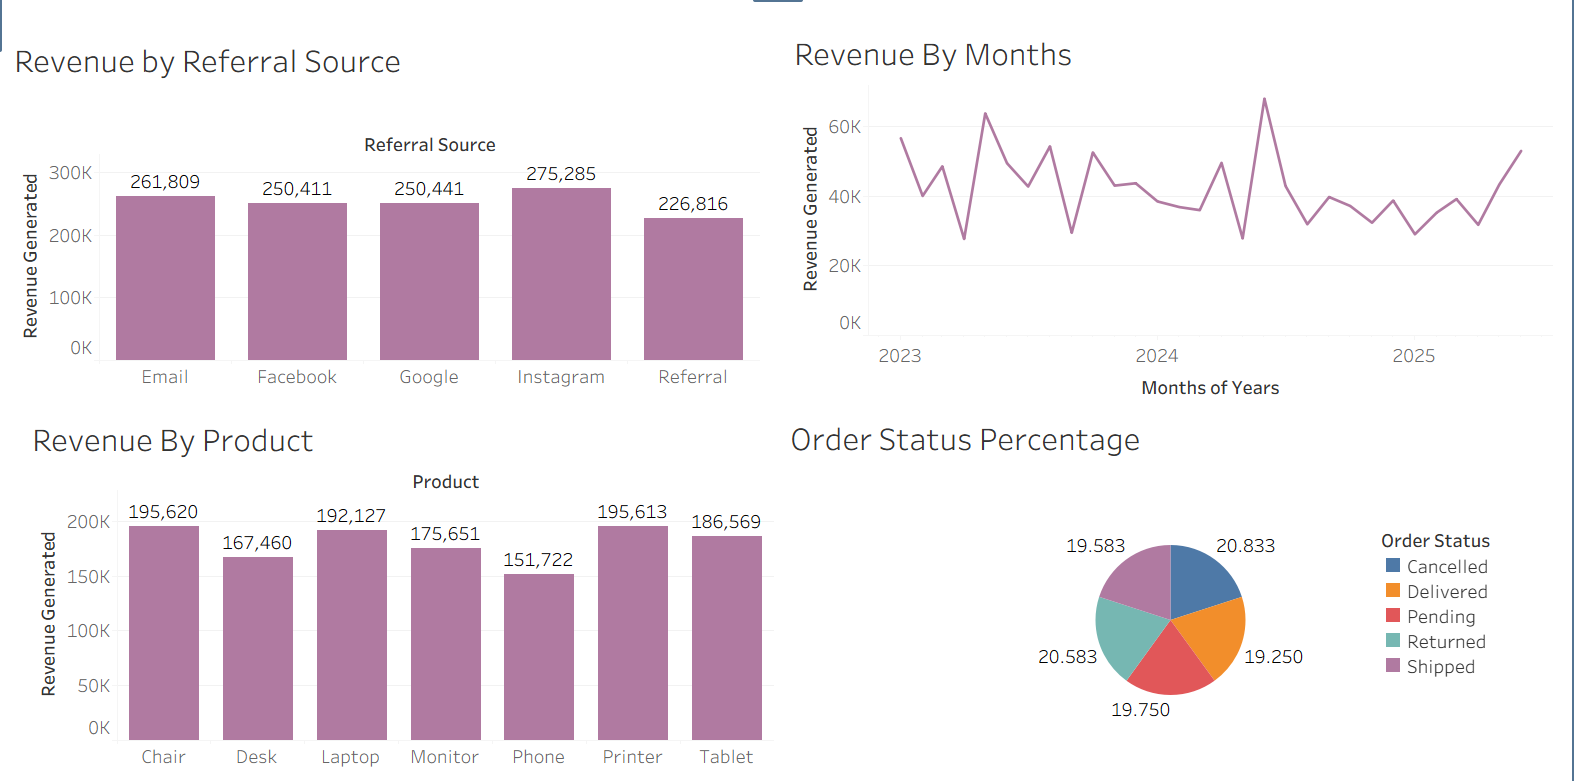

This screenshot's page, from the dashboard's own definition file:
{"tool":"tableau","page":{"name":"DashBoard","canvas":[1000,1000],"units":"permille","ordinal":0},"visuals":[{"type":"worksheet","title":"Revenue By Months","mark":"Line","rows":["TotalPrice"],"cols":["Date"],"box":[507.5,55.8,475.7,469]},{"type":"worksheet","title":"Revenue By Referral Source","mark":"Automatic","rows":["TotalPrice"],"cols":["ReferralSource"],"box":[21.2,64.5,467.6,439.2]},{"type":"worksheet","title":"Order Status Percentage","mark":"Pie","box":[505,533.5,479.4,442.9]},{"type":"worksheet","title":"Revenue By Product","mark":"Automatic","rows":["TotalPrice"],"cols":["Product"],"box":[32.4,534.7,465.1,440.4]},{"type":"legend","title":"Order Status Percentage","param":"[federated.1qw7hlh021n14o17y2co00gy0gd3].[none:OrderStatus:nk]","box":[875.9,674.9,96.6,201]}]}

Visuals, with their boxes on the dashboard's canvas, which has no fixed pixel size, in thousandths of its width and height (x1, y1, x2, y2). These are canvas units, not pixel positions in the 1574x781 screenshot, which may show the page scaled, cropped or inside an application window:
"Revenue By Months" worksheet (Line marks): bbox=(508, 56, 983, 525)
"Revenue By Referral Source" worksheet: bbox=(21, 64, 489, 504)
"Order Status Percentage" worksheet (Pie marks): bbox=(505, 534, 984, 976)
"Revenue By Product" worksheet: bbox=(32, 535, 498, 975)
"Order Status Percentage" legend: bbox=(876, 675, 972, 876)
